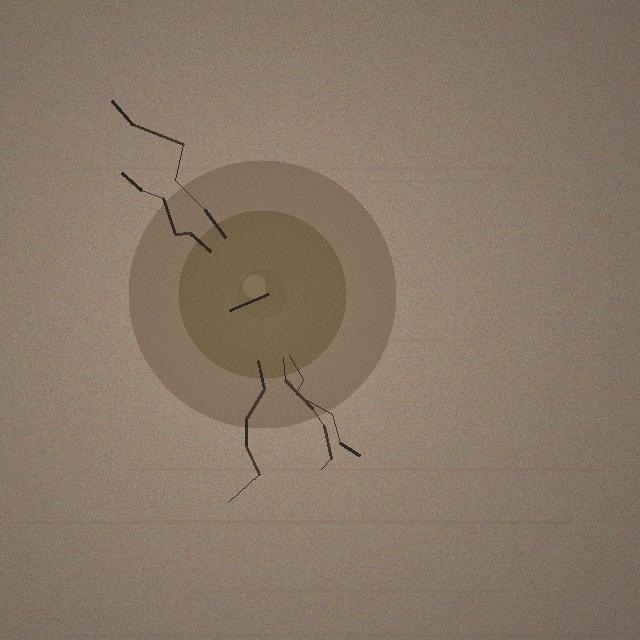crack: (128, 160, 396, 428)
